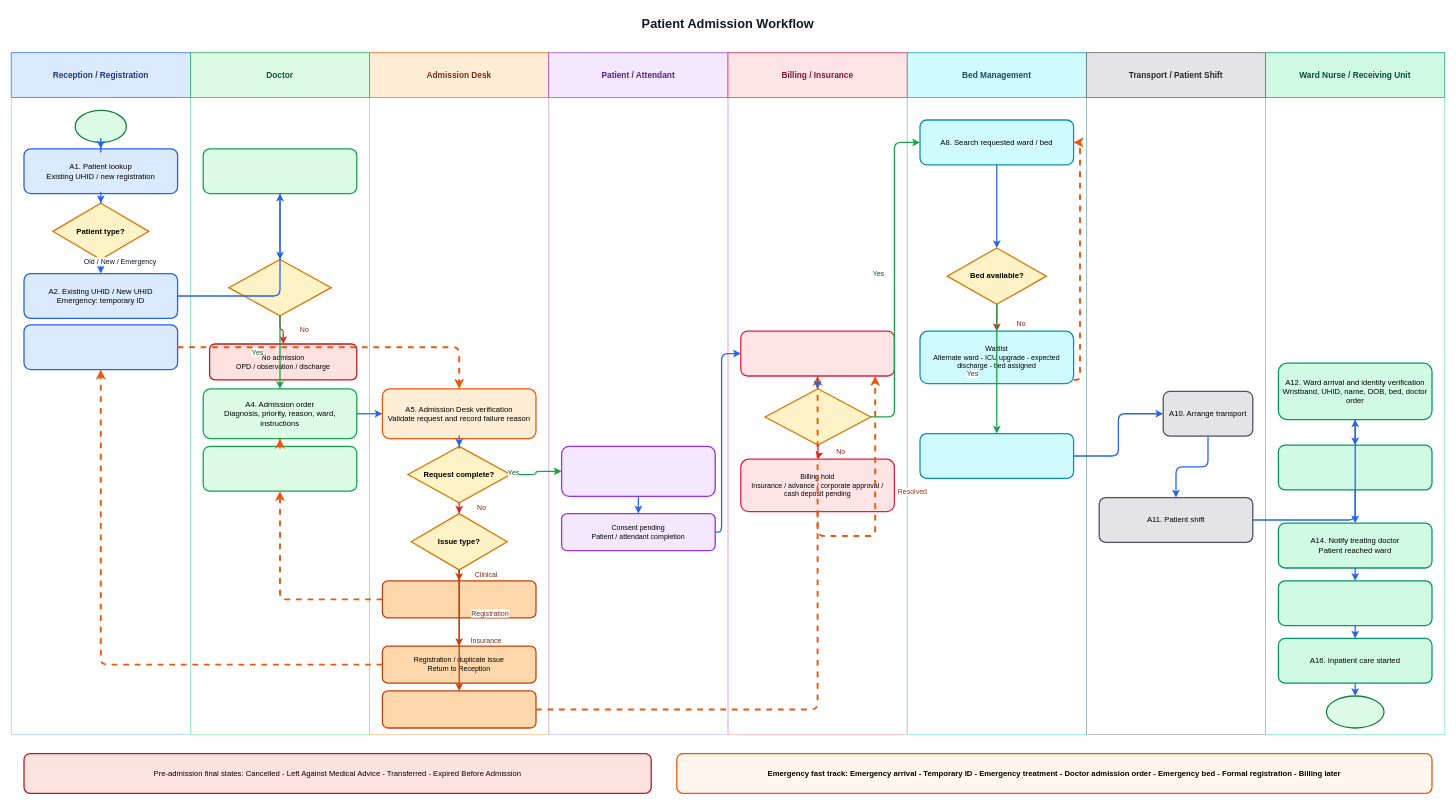
Some shapes in this 1456 by 804 pixel diagram are drawn without their labels. Here are the shapes that lost their labels. From the top down, the box of each, then its label:
(74, 109, 127, 143): Start
(202, 148, 357, 194): A3. Clinical assessment Diagnosis and admission need
(228, 259, 332, 316): Admission required?
(23, 324, 178, 370): Correct registration Name, DOB, UHID, mobile, duplicate
(740, 330, 895, 376): A7. Financial review Insurance / corporate / cash
(764, 388, 871, 445): Financial cleared?
(202, 445, 357, 492): Doctor correction Complete missing clinical information
(561, 445, 716, 497): A6. Obtain consents Admission, general, insurance, privacy
(919, 433, 1074, 479): A9. Reserve and assign bed Available - Reserved
(1277, 444, 1432, 490): A13. Bed occupied Reserved - Occupied
(381, 580, 536, 618): Clinical missing Return to Doctor
(1277, 580, 1432, 626): A15. Initial assessment Vitals, admission assessment, handover
(381, 690, 536, 728): Insurance details missing Return to Billing
(1325, 695, 1384, 728): Complete
